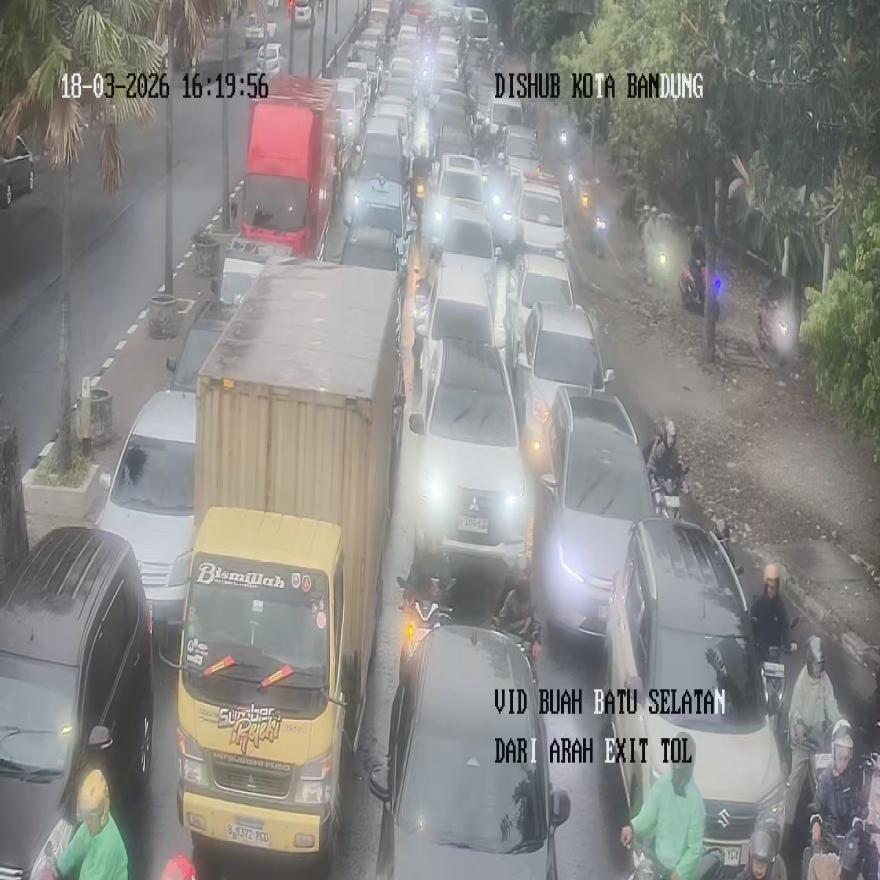Motor: (602, 515, 786, 875), (0, 526, 153, 877), (368, 622, 570, 878), (407, 278, 530, 580), (532, 385, 657, 640), (96, 388, 197, 636), (514, 300, 614, 470)
Truk: (33, 769, 129, 880), (396, 574, 454, 687), (491, 561, 541, 670), (623, 835, 723, 880), (756, 281, 794, 364), (679, 257, 721, 320), (762, 644, 786, 735), (651, 463, 688, 520)
